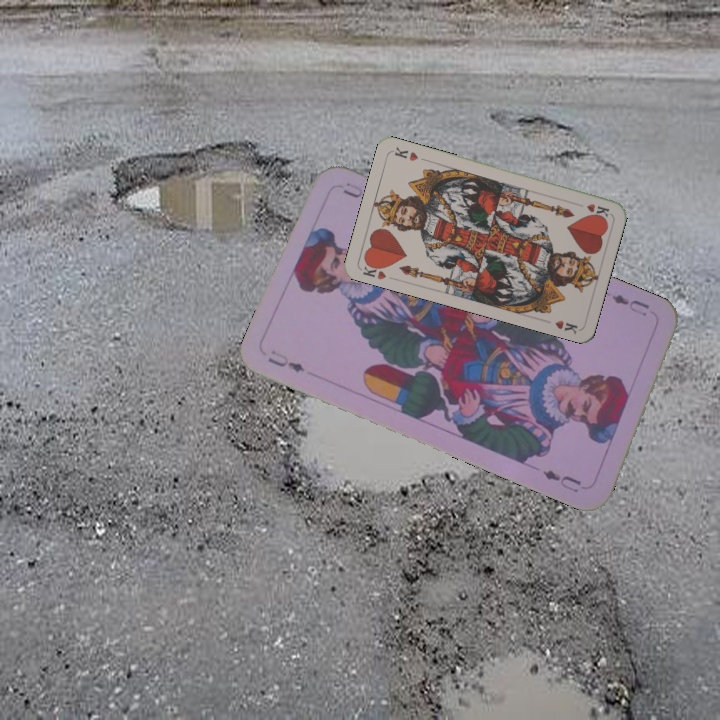EU: (607, 290, 652, 319), (263, 346, 307, 375)
HK: (572, 199, 612, 220), (359, 258, 389, 282)
